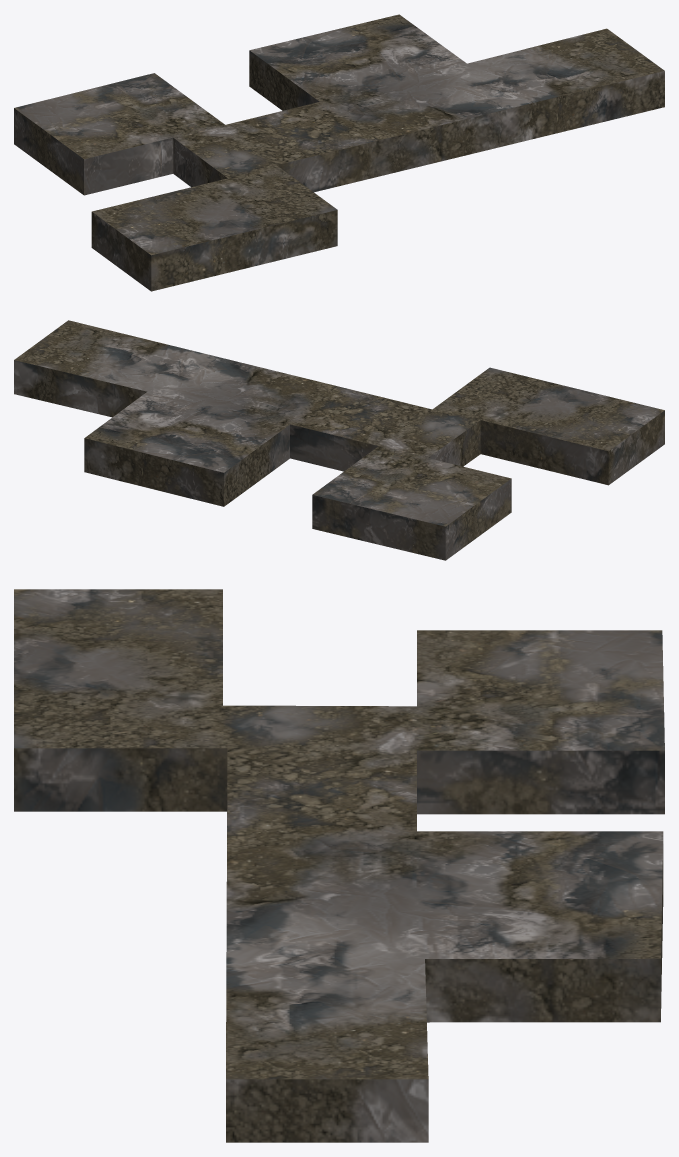
File: FreeTiles2.fbx
3 views of the same model, one above another, from view 1: azimuth 30°, elevation 25°; view 2: azimuth 150°, elevation 25°; view 3: azimuth 270°, elevation 25° (orthographic). The views are drawn at different scales.
Parts seen in each view (by area): view 1: FreeTiles2; view 2: FreeTiles2; view 3: FreeTiles2.
Part boxes in pixels (x1=…): FreeTiles2: x1=14, y1=14, x2=664, y2=291; FreeTiles2: x1=14, y1=320, x2=664, y2=560; FreeTiles2: x1=14, y1=589, x2=664, y2=1142.
Size of the model in its own units: 332 by 186 by 20.
